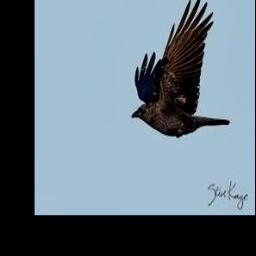Crow: (132, 0, 229, 137)
